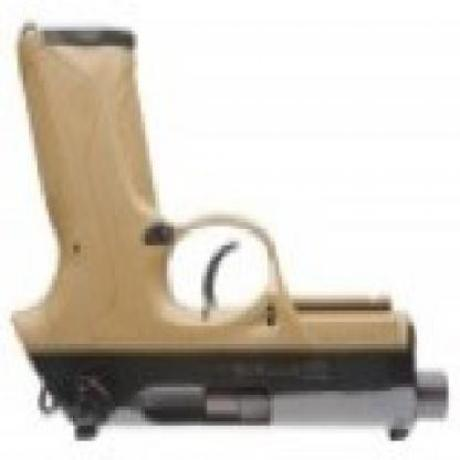weapon: (8, 22, 455, 452)
